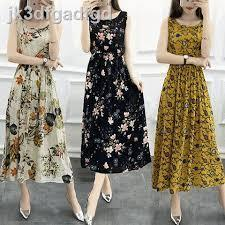dress: (80, 12, 151, 173), (154, 10, 216, 193), (2, 21, 64, 188)
